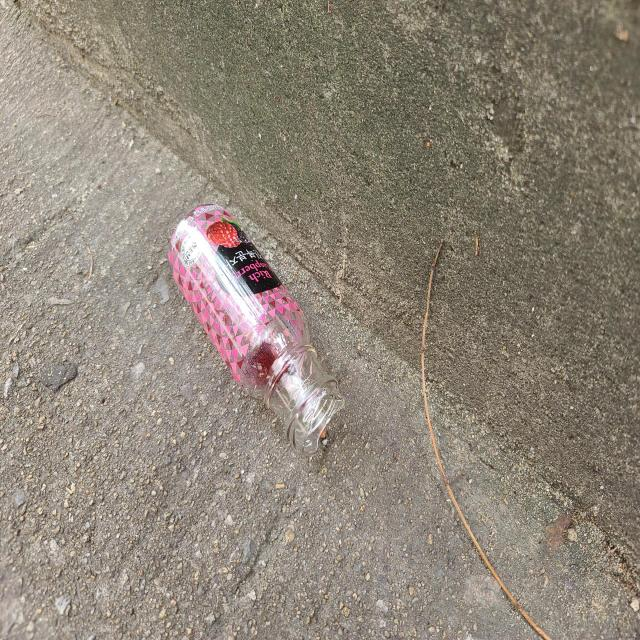glass: (169, 203, 343, 455)
